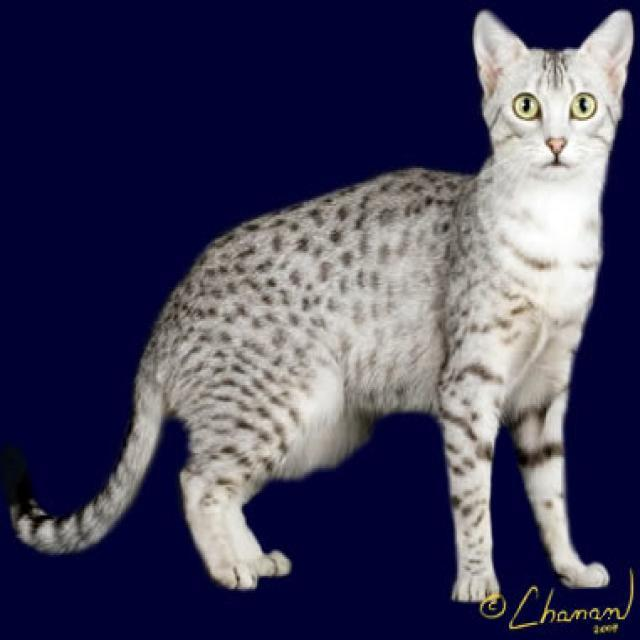Egyptian_Mau: (470, 8, 630, 178)
